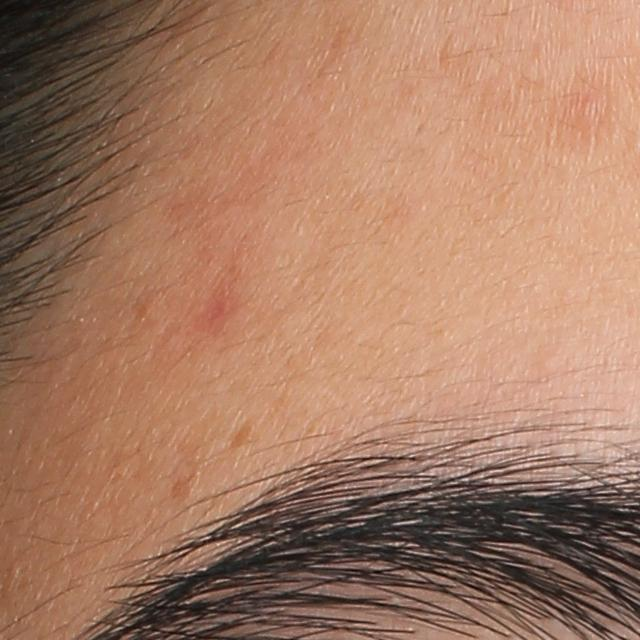melasma: (227, 417, 255, 457)
